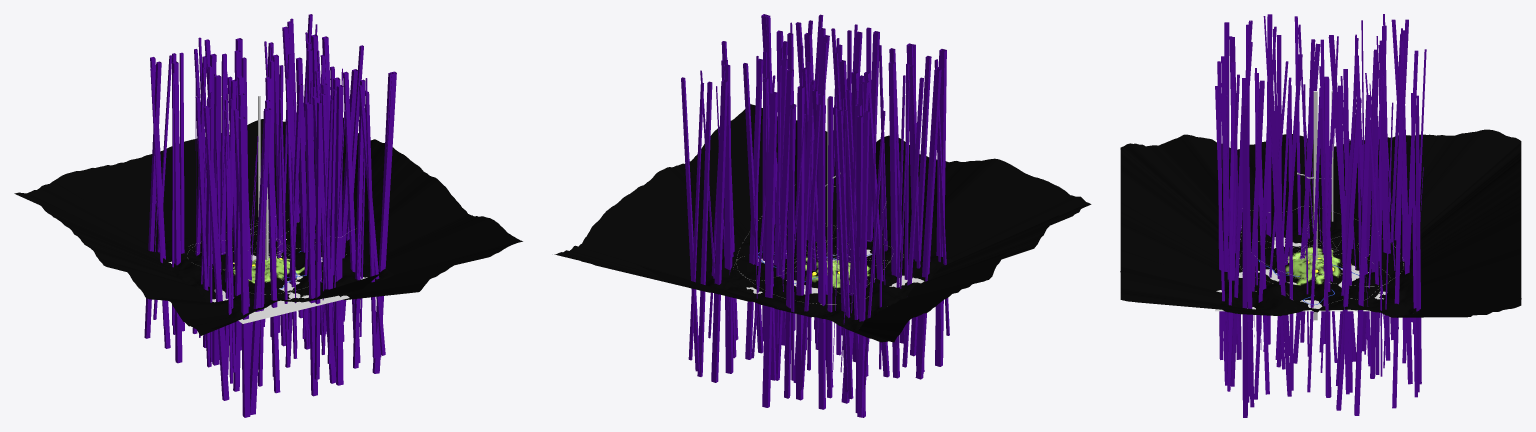
File: always-here.6bc0a546.glb
3 renders of one model, left to right at view 1: azimuth 30°, elevation 25°; view 2: azimuth 150°, elevation 25°; view 3: azimuth 270°, elevation 25°, orthographic. The views are drawn at different scales.
Parts seen in each view (by area): view 1: ghost-towers, ghost-landscape, basic-landscape, water; view 2: ghost-towers, ghost-landscape, basic-landscape; view 3: ghost-towers, ghost-landscape, basic-landscape, water, ghost-shell.
Boxes of the visible parts, x1,y1,x2,y2 form: ghost-towers: (144,14,396,417); ghost-landscape: (14,118,522,335); basic-landscape: (147,212,395,321); water: (168,239,367,323); ghost-towers: (681,14,949,417); ghost-landscape: (554,104,1091,342); basic-landscape: (698,212,954,330); ghost-towers: (1215,14,1426,417); ghost-landscape: (1120,129,1521,317); basic-landscape: (1220,224,1421,317); water: (1215,237,1385,311); ghost-shell: (1313,91,1317,320).
Size of the model in its own units: 852 by 766 by 852.
